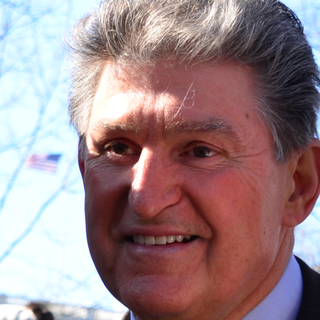eye: (178, 140, 226, 163), (97, 139, 135, 163)
